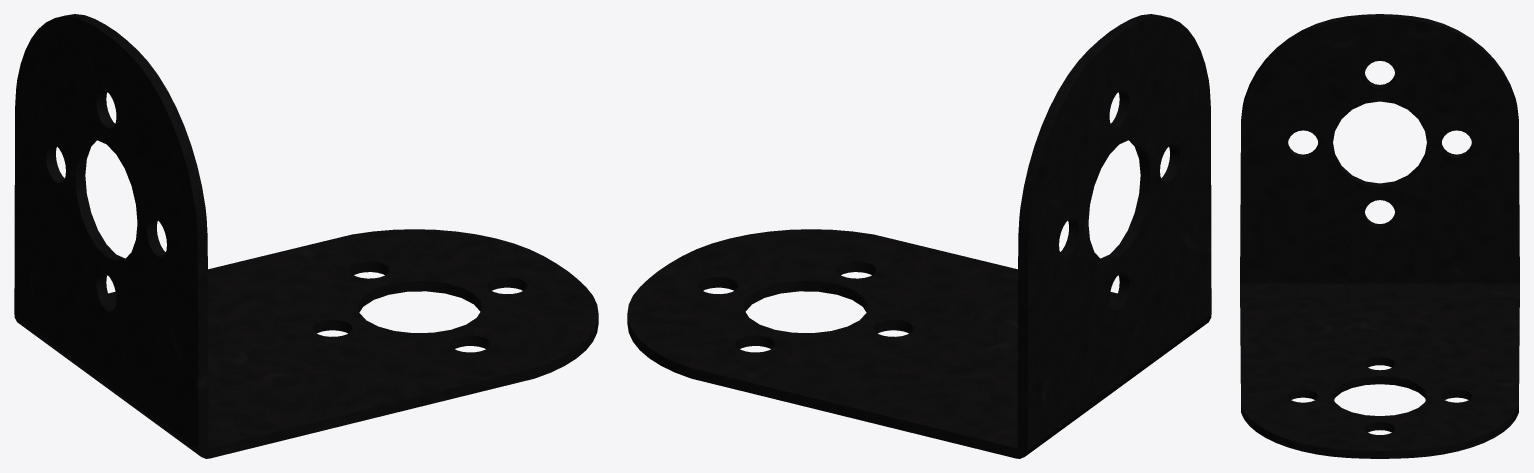
3 renders of one model, left to right at view 1: azimuth 30°, elevation 25°; view 2: azimuth 150°, elevation 25°; view 3: azimuth 270°, elevation 25°, orthographic. The views are drawn at different scales.
Parts seen in each view (by area): view 1: pCube12; view 2: pCube12; view 3: pCube12.
Part boxes in pixels (x1=…): pCube12: x1=14, y1=14, x2=598, y2=458; pCube12: x1=627, y1=14, x2=1211, y2=458; pCube12: x1=1240, y1=14, x2=1519, y2=458.
Size of the model in its own units: 3.62 by 2.5 by 2.7.
1 material, 1 textured.
